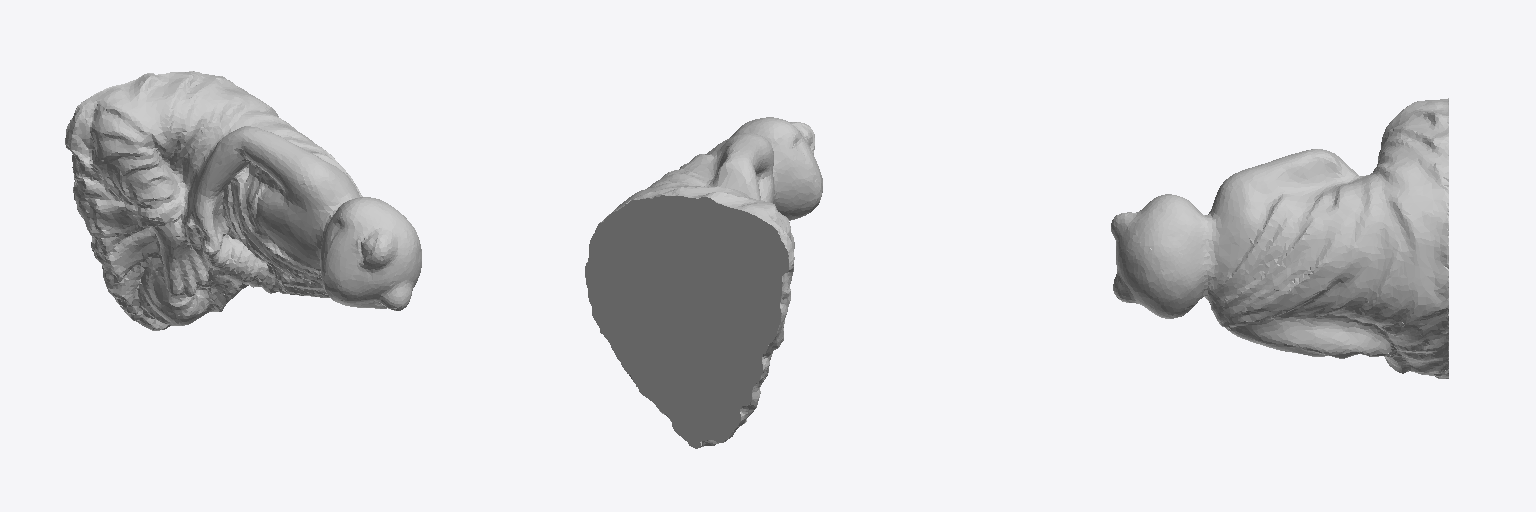
File: 190698-frog_statue_Clustering_50pct.obj
The picture shows the model from 3 angles: view 1: azimuth 30°, elevation 25°; view 2: azimuth 150°, elevation 25°; view 3: azimuth 270°, elevation 25°; orthographic projection.
Bounding box in the file's own units: 0.729 × 0.8369 × 1.